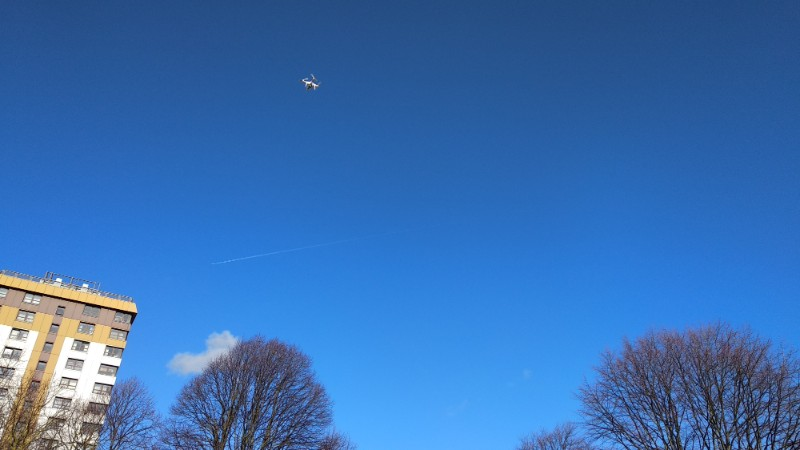drone: (299, 73, 320, 93)
